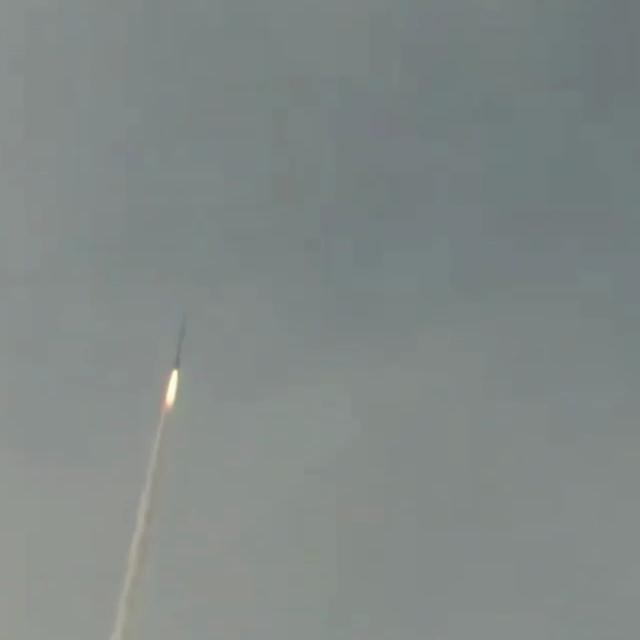smoke_trail_with_rocket: (106, 320, 185, 640)
